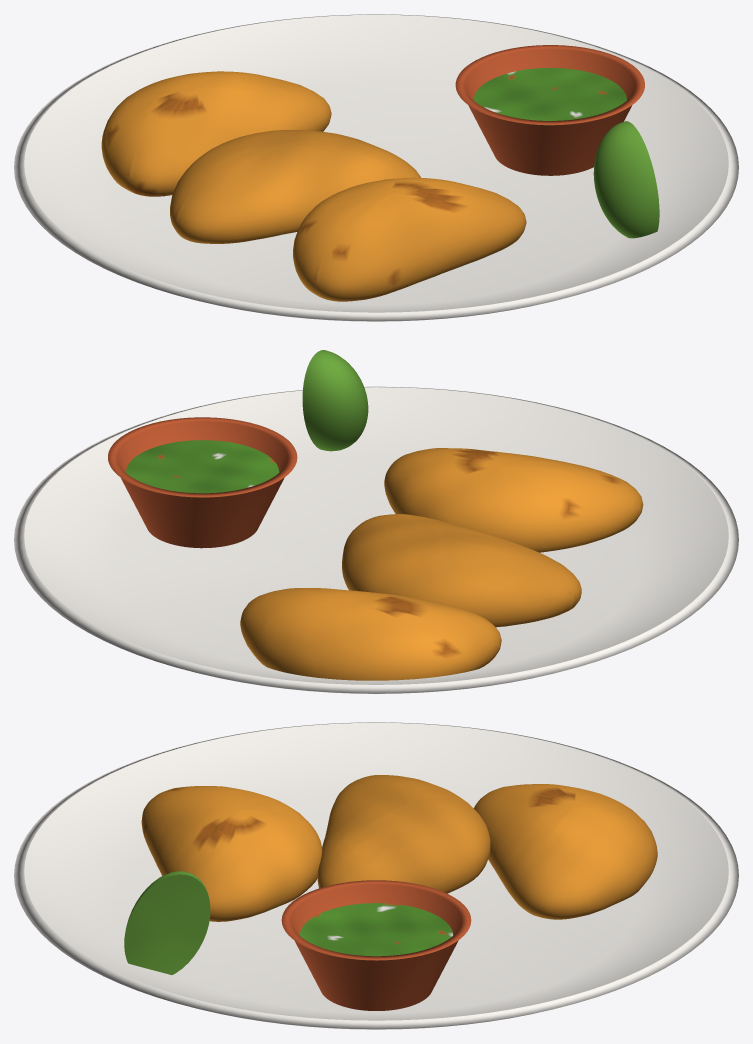
The model's file is empanadas.glb.
The picture shows the model from 3 angles, top to bottom: view 1: azimuth 30°, elevation 25°; view 2: azimuth 150°, elevation 25°; view 3: azimuth 270°, elevation 25°; orthographic projection.
Visible parts, largest first — view 1: plato, empanadas, cuenco, aji, limon; view 2: plato, empanadas, cuenco, aji, limon; view 3: plato, empanadas, cuenco, limon, aji.
Part boxes in pixels (x1,y1,x2,y2): plato: [14, 14, 738, 321]; empanadas: [101, 71, 526, 301]; cuenco: [455, 45, 644, 175]; aji: [473, 68, 626, 125]; limon: [593, 121, 659, 238]; plato: [14, 386, 738, 693]; empanadas: [240, 448, 643, 680]; cuenco: [108, 417, 297, 548]; aji: [126, 440, 279, 497]; limon: [302, 350, 368, 451]; plato: [14, 722, 738, 1029]; empanadas: [141, 775, 657, 921]; cuenco: [281, 880, 471, 1010]; limon: [124, 871, 210, 974]; aji: [300, 903, 452, 960].
Size of the model in its own units: 0.26 by 0.0475 by 0.26.
